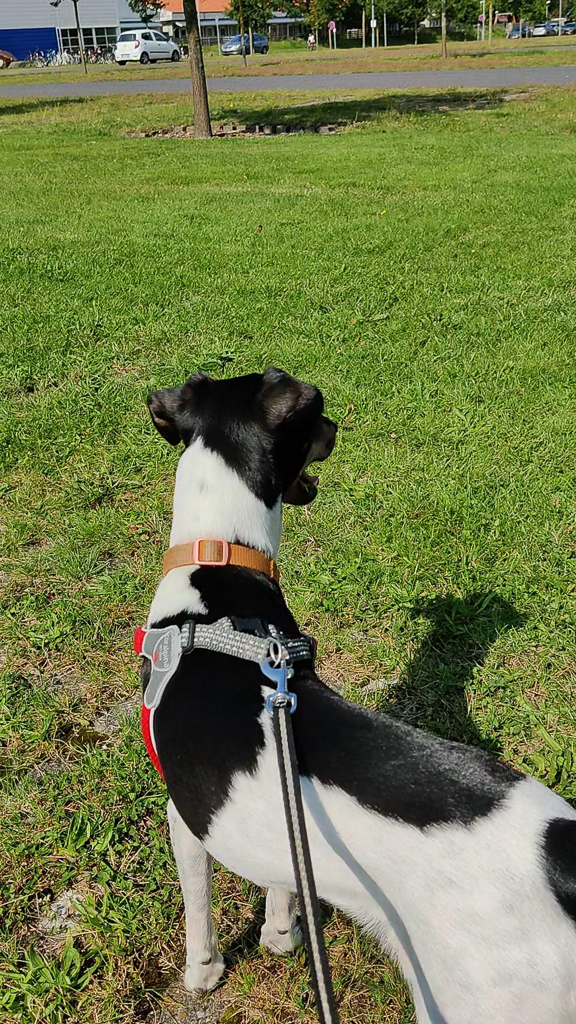Dog: (126, 354, 576, 1024)
